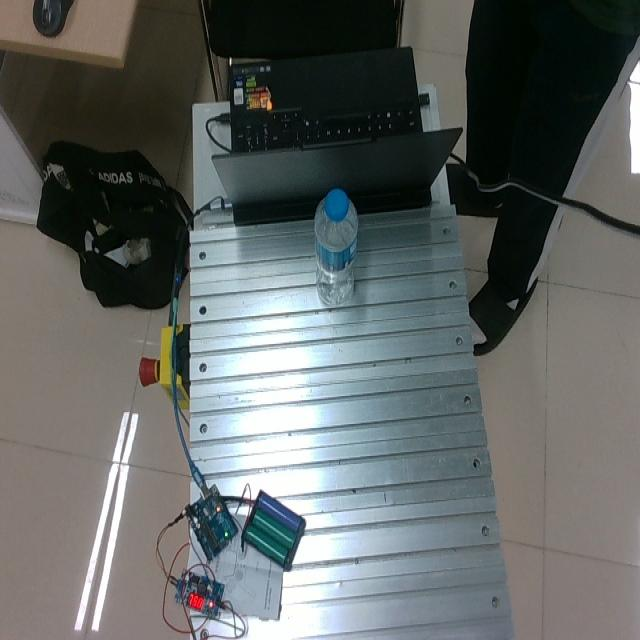lavie: (314, 189, 359, 307)
